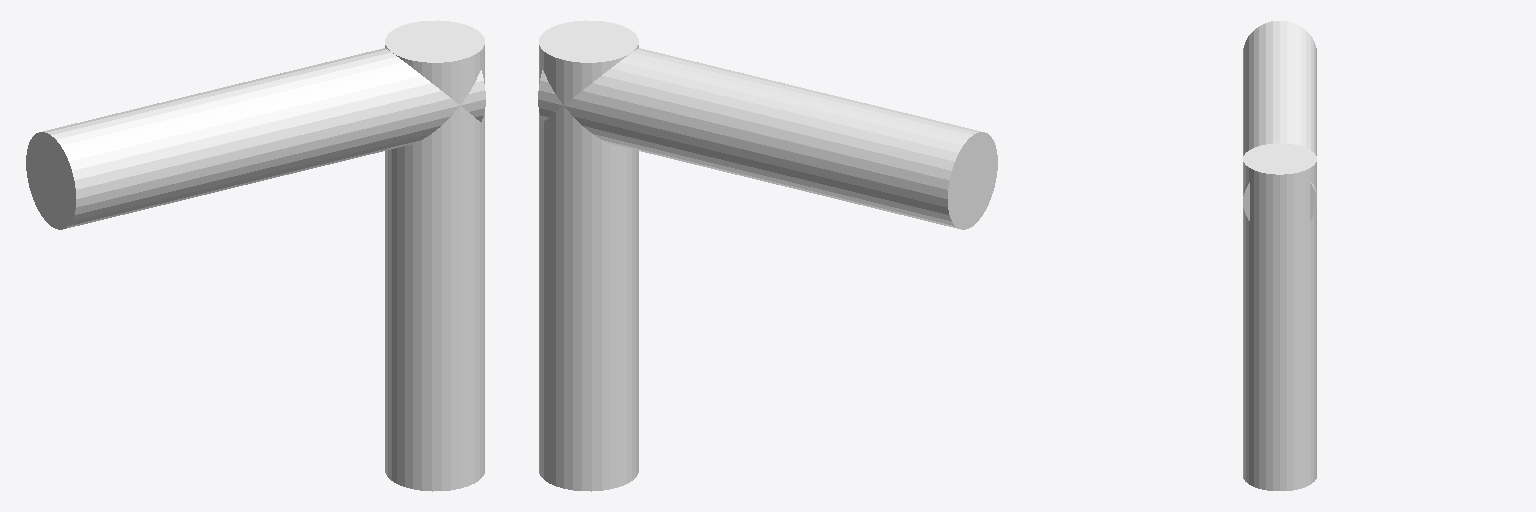
robot.urdf — wheelchair:
<?xml version="1.0" ?>
<robot name="wheelchair">

    <material name="white">
        <color rgba="1 1 1 1"/>
    </material>

    <link name="root">
        <inertial>
            <mass value="0"/>
            <origin rpy="0 0 0" xyz="0 0 0"/>
            <inertia ixx="0.01" ixy="0.0" ixz="0.0" iyy="0.01" iyz="0.0" izz="0.01"/>
        </inertial>
        <visual>
            <origin rpy="0 0 0" xyz="0 0 0"/>
            <geometry>
                <mesh filename="wheelchair_permobil_reduced_compressed.obj" scale="0.15 0.15 0.15"/>
            </geometry>
            <material name="white"/>
        </visual>
        <collision>
            <origin rpy="0 0 0" xyz="0 0 0"/>
            <geometry>
                <mesh filename="wheelchair_permobil_reduced_compressed_vhacd.obj" scale="0.15 0.15 0.15"/>
            </geometry>
        </collision>
    </link>

    <link name="wheelchair_link">
        <inertial>
            <mass value="0.001"/>
            <origin rpy="0 0 0" xyz="0 0 0"/>
            <inertia ixx="0.0001" ixy="0" ixz="0" iyy="0.000001" iyz="0" izz="0.0001"/>
        </inertial>
        <visual>
            <origin rpy="0 0 0" xyz="0.35 0.3 -0.15"/>
            <geometry>
                <!--<box size="0.085 0.085 0.4"/>-->
                <cylinder radius="0.0425" length="0.4"/>
            </geometry>
            <material name="white"/>
        </visual>
        <collision>
            <origin rpy="0 0 0" xyz="0.35 0.3 -0.15"/>
            <geometry>
                <!--<box size="0.085 0.085 0.4"/>-->
                <cylinder radius="0.0425" length="0.4"/>
            </geometry>
        </collision>
    </link>
    <joint name="wheelchair_joint" type="fixed">
        <parent link="root"/>
        <child link="wheelchair_link"/>
        <origin xyz="0 0 0"/>
    </joint>

    <link name="wheelchair_link2">
        <inertial>
            <mass value="0.001"/>
            <origin rpy="0 0 0" xyz="0 0 0"/>
            <inertia ixx="0.0001" ixy="0" ixz="0" iyy="0.000001" iyz="0" izz="0.0001"/>
        </inertial>
        <visual>
            <!--<origin rpy="0 0 0" xyz="0.175 0.3 0.0075"/>-->
            <origin rpy="0 1.57079632679 0" xyz="0.175 0.3 0.0075"/>
            <geometry>
                <!--<box size="0.4 0.085 0.085"/>-->
                <cylinder radius="0.0425" length="0.4"/>
            </geometry>
            <material name="white"/>
        </visual>
        <collision>
            <!--<origin rpy="0 0 0" xyz="0.175 0.3 0.0075"/>-->
            <origin rpy="0 1.57079632679 0" xyz="0.175 0.3 0.0075"/>
            <geometry>
                <!--<box size="0.4 0.085 0.085"/>-->
                <cylinder radius="0.0425" length="0.4"/>
            </geometry>
        </collision>
    </link>
    <joint name="wheelchair_joint2" type="fixed">
        <parent link="root"/>
        <child link="wheelchair_link2"/>
        <origin xyz="0 0 0"/>
    </joint>
</robot>

--- Render facts (derived) ---
The picture shows the robot from 3 angles, left to right: view 1: azimuth 30°, elevation 25°; view 2: azimuth 150°, elevation 25°; view 3: azimuth 270°, elevation 25°; orthographic projection.
Model wheelchair with 3 links and 2 joints (2 fixed), rooted at root, posed every joint at zero.
Links seen in each view (by area): view 1: wheelchair_link2, wheelchair_link; view 2: wheelchair_link2, wheelchair_link; view 3: wheelchair_link, wheelchair_link2.
Boxes of the visible links, <box> form: wheelchair_link2: <box>26,48,485,229</box>; wheelchair_link: <box>385,20,484,491</box>; wheelchair_link2: <box>538,48,997,229</box>; wheelchair_link: <box>539,20,638,491</box>; wheelchair_link: <box>1243,143,1316,490</box>; wheelchair_link2: <box>1243,21,1316,220</box>.
Bounding box of the posed robot: 0.4175 × 0.085 × 0.4 m (x, y, z).
0 mesh visuals loaded from 1 distinct referenced files (none loaded); not drawn: 1 (reference not matched to a file when rendering).